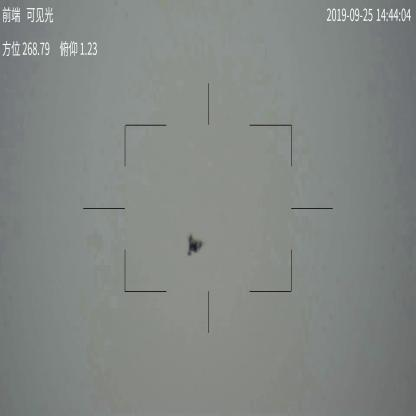uav: (186, 232, 208, 257)
